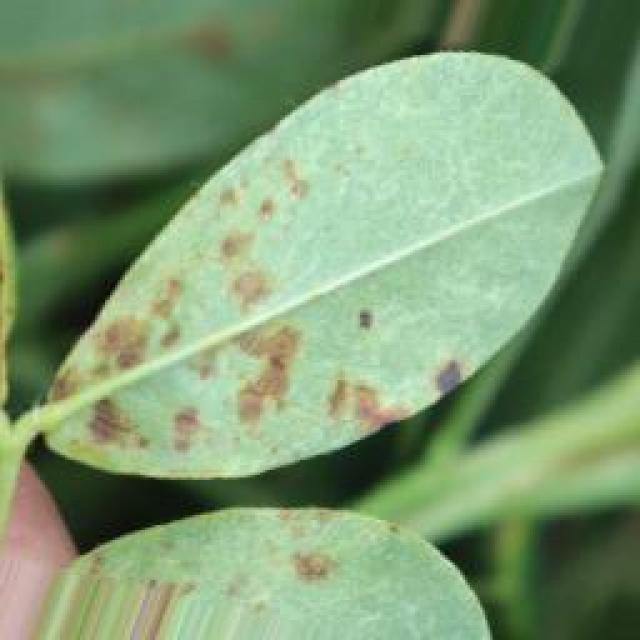Whitefly: (0, 82, 424, 612)
